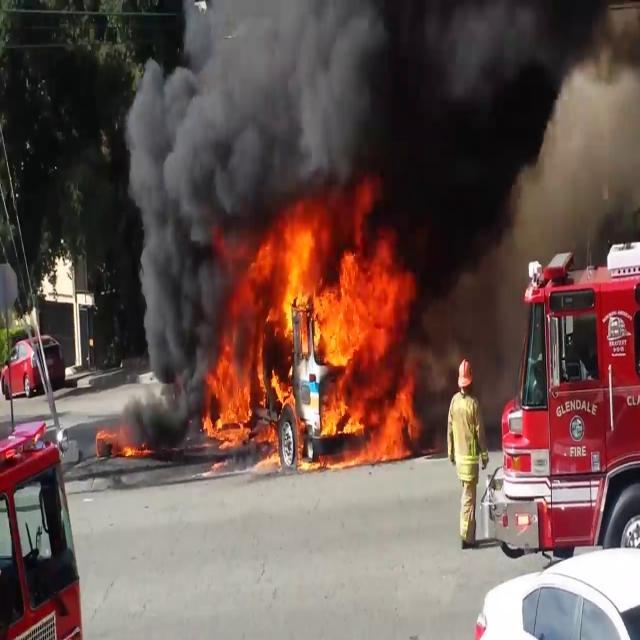Fire: (202, 205, 420, 468), (95, 417, 148, 462)
Smoke: (121, 0, 612, 261), (122, 5, 278, 353)
